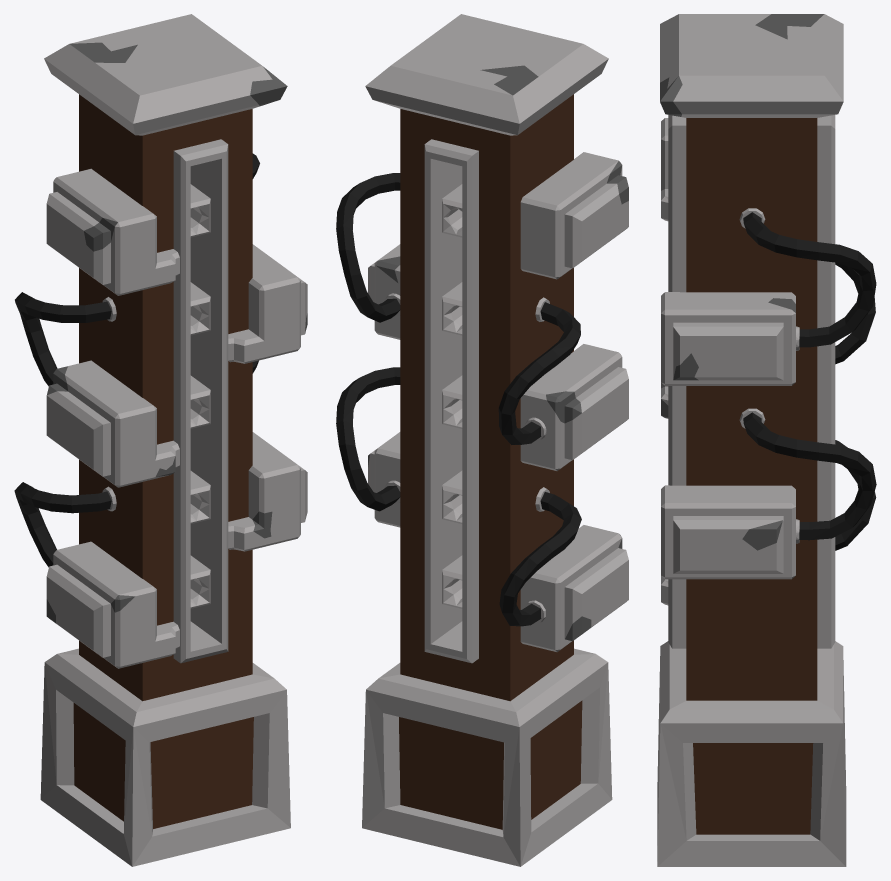
The model's file is BoltThrower.fbx.
3 views of the same model, side by side, from view 1: azimuth 30°, elevation 25°; view 2: azimuth 150°, elevation 25°; view 3: azimuth 270°, elevation 25° (orthographic). The views are drawn at different scales.
Parts seen in each view (by area): view 1: BoltThrower; view 2: BoltThrower; view 3: BoltThrower.
Part boxes in pixels (x1,y1,x2,y2): BoltThrower: (14,14,307,866); BoltThrower: (336,14,628,866); BoltThrower: (657,14,876,866).
Size of the model in its own units: 58.49 by 188 by 47.76.
